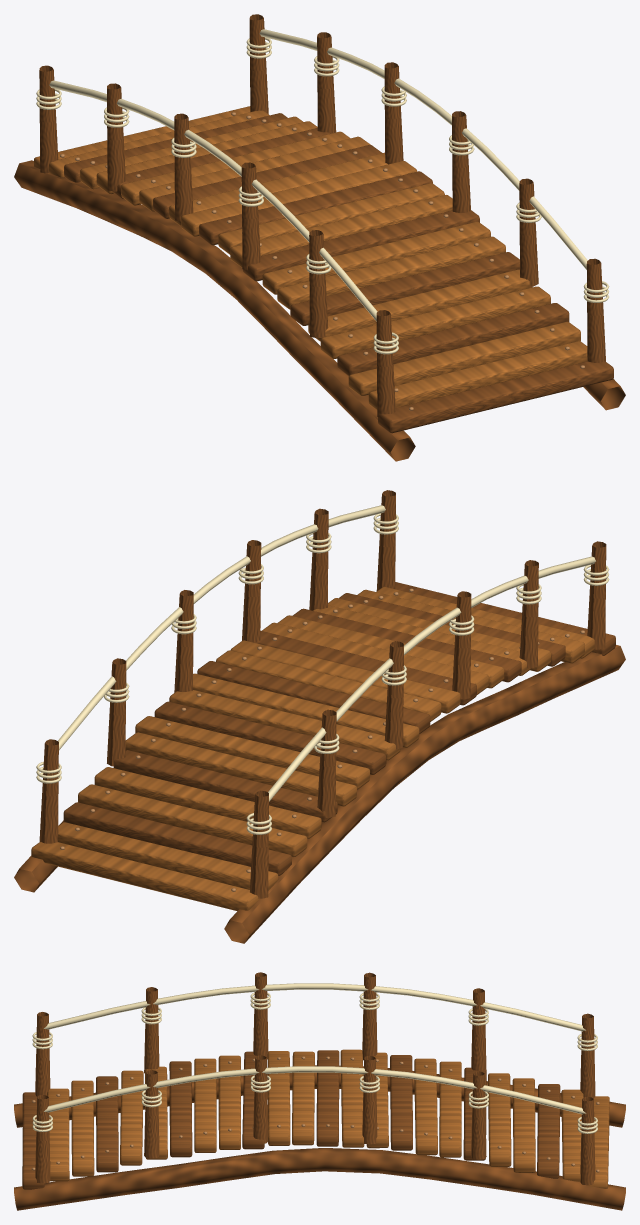
File: bridge.glb
3 renders of one model, top to bottom at view 1: azimuth 30°, elevation 25°; view 2: azimuth 150°, elevation 25°; view 3: azimuth 270°, elevation 25°, orthographic. The views are drawn at different scales.
Visible parts, largest first — view 1: Arched beam, Worn bridge board, Worn bridge board.002, Worn bridge board.003, Worn bridge board.001, Worn bridge board.004, Worn bridge board.006, Worn bridge board.005, Worn bridge board.007, Worn bridge board.008, Worn bridge board.009, Worn bridge board.010 (+28 smaller); view 2: Arched beam, Worn bridge board.023, Worn bridge board.021, Worn bridge board.020, Worn bridge board.022, Worn bridge board.019, Worn bridge board.017, Worn bridge board.018, Worn bridge board.016, Worn bridge board.015, Worn bridge board.014, Worn bridge board.013 (+28 smaller); view 3: Arched beam.001, Rope handrail.001, Rope handrail, Worn bridge board.016, Worn bridge board.012, Worn bridge board.017, Worn bridge board.003, Worn bridge board.002, Worn bridge board.006, Worn bridge board.015, Worn bridge board.011, Worn bridge board.007 (+28 smaller).
Boxes of the visible parts, x1,y1,x2,y2 form: Arched beam: [14, 160, 415, 461]; Worn bridge board: [378, 361, 613, 433]; Worn bridge board.002: [348, 321, 580, 395]; Worn bridge board.003: [337, 303, 569, 375]; Worn bridge board.001: [368, 341, 587, 409]; Worn bridge board.004: [320, 286, 550, 358]; Worn bridge board.006: [290, 252, 519, 325]; Worn bridge board.005: [308, 269, 532, 341]; Worn bridge board.007: [277, 236, 505, 309]; Worn bridge board.008: [262, 221, 490, 294]; Worn bridge board.009: [243, 210, 479, 281]; Worn bridge board.010: [230, 195, 452, 267]; Arched beam: [224, 645, 625, 943]; Worn bridge board.023: [31, 842, 259, 910]; Worn bridge board.021: [63, 802, 291, 875]; Worn bridge board.020: [78, 784, 307, 857]; Worn bridge board.022: [58, 822, 278, 890]; Worn bridge board.019: [94, 767, 321, 838]; Worn bridge board.017: [125, 732, 356, 806]; Worn bridge board.018: [113, 750, 337, 822]; Worn bridge board.016: [135, 716, 369, 789]; Worn bridge board.015: [154, 701, 386, 774]; Worn bridge board.014: [169, 690, 400, 760]; Worn bridge board.013: [193, 673, 419, 747]; Arched beam.001: [14, 1148, 625, 1210]; Rope handrail.001: [44, 1066, 586, 1114]; Rope handrail: [44, 983, 585, 1031]; Worn bridge board.016: [414, 1058, 437, 1155]; Worn bridge board.012: [316, 1050, 339, 1146]; Worn bridge board.017: [439, 1061, 461, 1157]; Worn bridge board.003: [96, 1076, 118, 1172]; Worn bridge board.002: [71, 1080, 94, 1176]; Worn bridge board.006: [169, 1061, 192, 1157]; Worn bridge board.015: [390, 1055, 412, 1150]; Worn bridge board.011: [292, 1051, 314, 1145]; Worn bridge board.007: [194, 1058, 216, 1152].
Bounding box in the file's own units: 2.42 × 1.82 × 6.74.
Materials: 5 (3 with a texture image).
